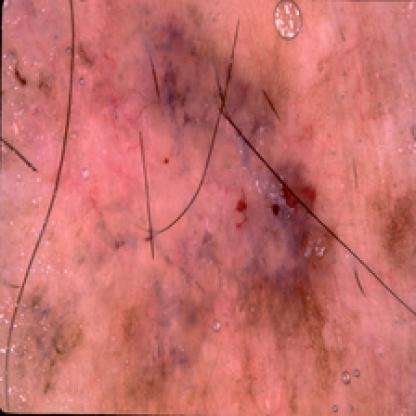malignant: (156, 41, 338, 323)
